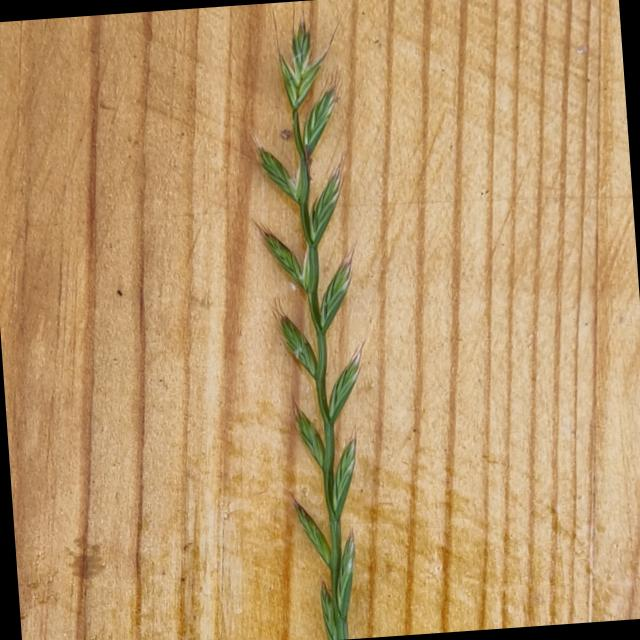Lolium: (236, 11, 390, 640)
